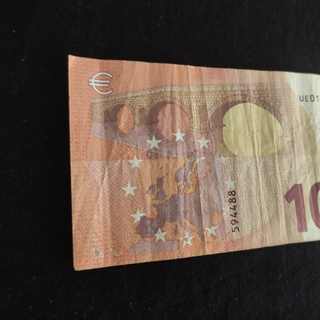10EUROBack: (67, 53, 320, 271)
